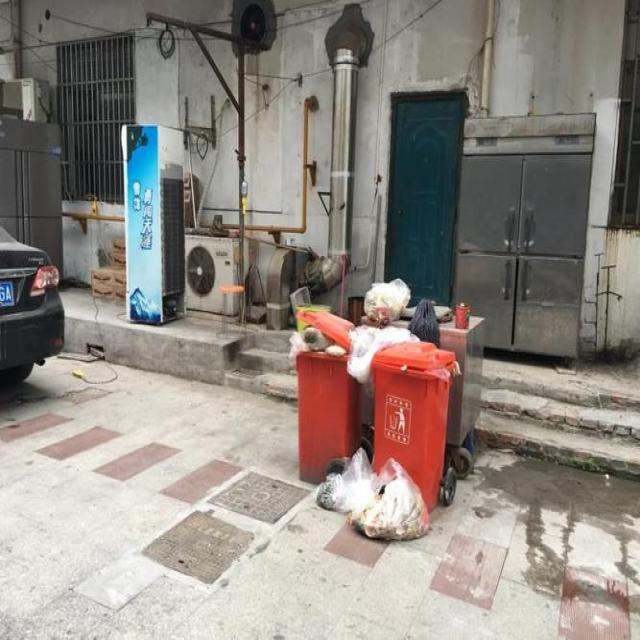garbage: (314, 447, 429, 540)
overflow: (345, 320, 458, 511), (289, 301, 360, 481)
